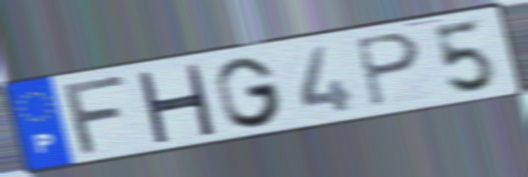4: (295, 43, 357, 114)
5: (429, 16, 498, 96)
F: (62, 72, 132, 159)
G: (212, 54, 287, 130)
H: (133, 62, 218, 144)
P: (351, 30, 425, 111)
